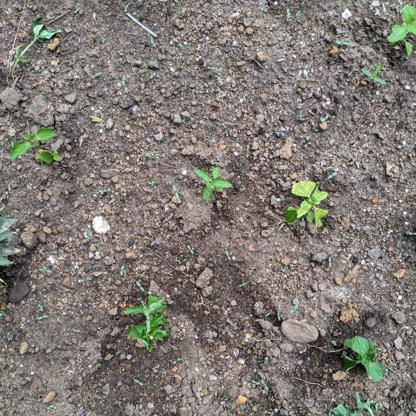weed: (121, 282, 171, 349), (283, 176, 332, 233), (8, 121, 64, 168), (335, 335, 386, 385), (9, 24, 66, 68), (384, 3, 416, 57), (192, 164, 234, 203)
